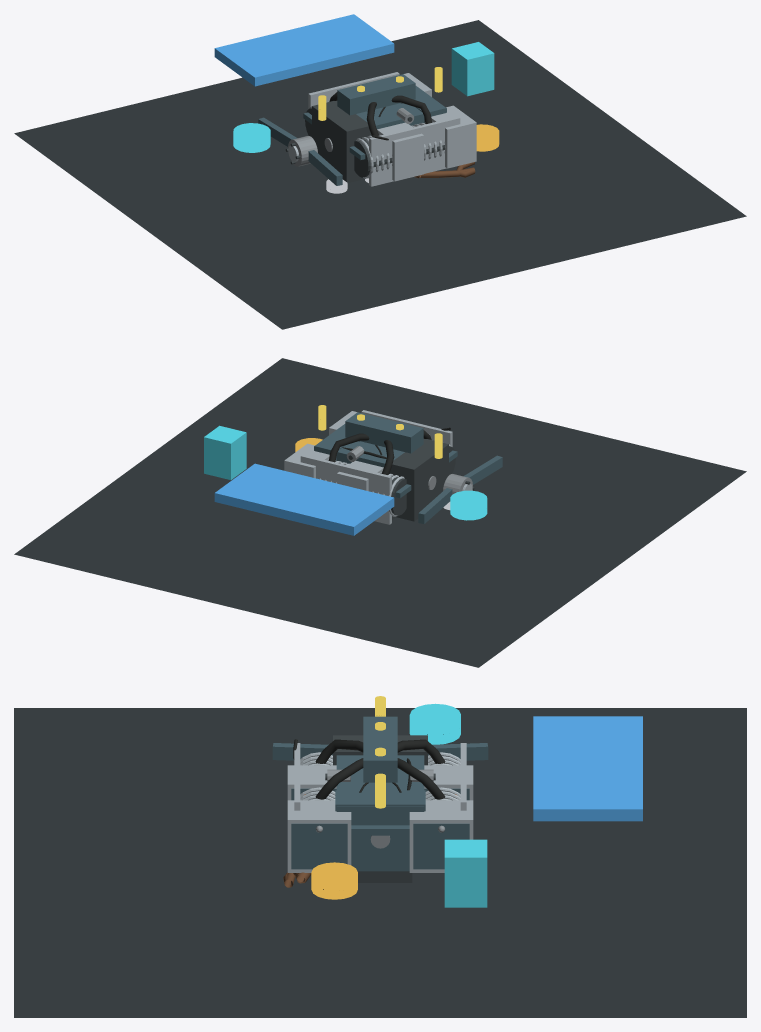
File: engine1.glb
3 renders of one model, top to bottom at view 1: azimuth 30°, elevation 25°; view 2: azimuth 150°, elevation 25°; view 3: azimuth 270°, elevation 25°, orthographic. The views are drawn at different scales.
Parts seen in each view (by area): view 1: PresentationFloor, Radiator_Placeholder, Crankcase_Front, CoolingBaffle, CoolantReservoir_Placeholder, IntakePlenum, HeadBody_02, HeadBody_01, CoolantPump_Placeholder, Crankcase_Main, OilPump_Placeholder, CoolingBaffle.001 (+1 smaller); view 2: PresentationFloor, Radiator_Placeholder, Crankcase_Front, CoolantReservoir_Placeholder, IntakePlenum, CoolingBaffle.001, CoolantPump_Placeholder, Crankcase_Main, HeadBody_04, HeadBody_03, CoolingBaffle, PropellerBlade_01; view 3: PresentationFloor, Radiator_Placeholder, Crankcase_Main, CoolantReservoir_Placeholder, HeadCover_02, IntakePlenum, HeadCover_04, HeadBody_02, CoolantPump_Placeholder, HeadBody_04, OilPump_Placeholder, Crankcase_Rear (+11 smaller).
Part boxes in pixels (<box>): PresentationFloor: <box>14,20,746,329</box>; Radiator_Placeholder: <box>214,14,394,86</box>; Crankcase_Front: <box>312,100,371,183</box>; CoolingBaffle: <box>369,116,460,186</box>; CoolantReservoir_Placeholder: <box>451,42,494,96</box>; IntakePlenum: <box>337,74,415,115</box>; HeadBody_02: <box>431,105,476,168</box>; HeadBody_01: <box>377,122,423,181</box>; CoolantPump_Placeholder: <box>233,123,270,152</box>; Crankcase_Main: <box>356,103,446,129</box>; OilPump_Placeholder: <box>476,124,499,151</box>; CoolingBaffle.001: <box>308,72,399,135</box>; PresentationFloor: <box>14,358,746,667</box>; Radiator_Placeholder: <box>214,463,394,535</box>; Crankcase_Front: <box>389,439,448,521</box>; CoolantReservoir_Placeholder: <box>204,425,246,479</box>; IntakePlenum: <box>345,412,423,453</box>; CoolingBaffle.001: <box>300,454,391,524</box>; CoolantPump_Placeholder: <box>450,490,487,520</box>; Crankcase_Main: <box>314,441,404,467</box>; HeadBody_04: <box>284,443,329,478</box>; HeadBody_03: <box>337,460,383,491</box>; CoolingBaffle: <box>361,410,452,446</box>; PropellerBlade_01: <box>418,488,452,523</box>; PresentationFloor: <box>14,708,746,1017</box>; Radiator_Placeholder: <box>533,716,642,821</box>; Crankcase_Main: <box>336,755,424,870</box>; CoolantReservoir_Placeholder: <box>444,839,487,907</box>; HeadCover_02: <box>291,823,347,869</box>; IntakePlenum: <box>363,716,397,782</box>; HeadCover_04: <box>413,823,469,869</box>; HeadBody_02: <box>287,800,351,872</box>; CoolantPump_Placeholder: <box>409,703,460,744</box>; HeadBody_04: <box>409,800,473,872</box>; OilPump_Placeholder: <box>311,862,357,899</box>; Crankcase_Rear: <box>335,790,425,871</box>.
Bounding box in the file's own units: 12 × 2.27 × 12.
